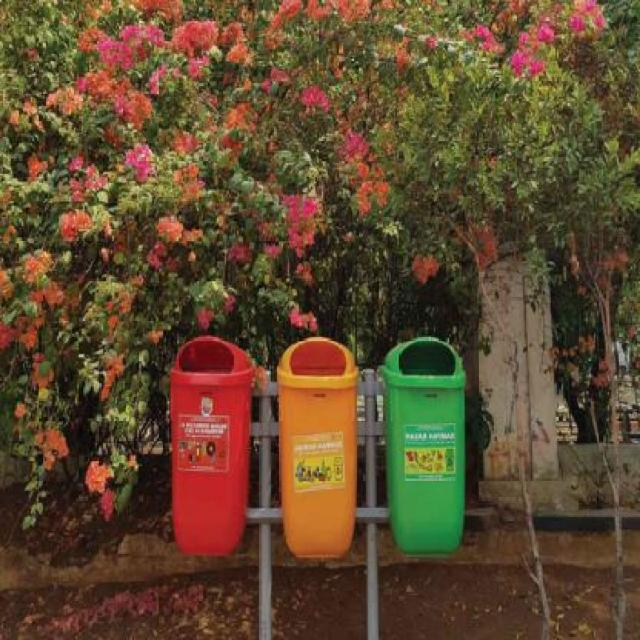garbage container: (375, 329, 470, 568), (161, 328, 254, 566), (272, 336, 362, 576)
